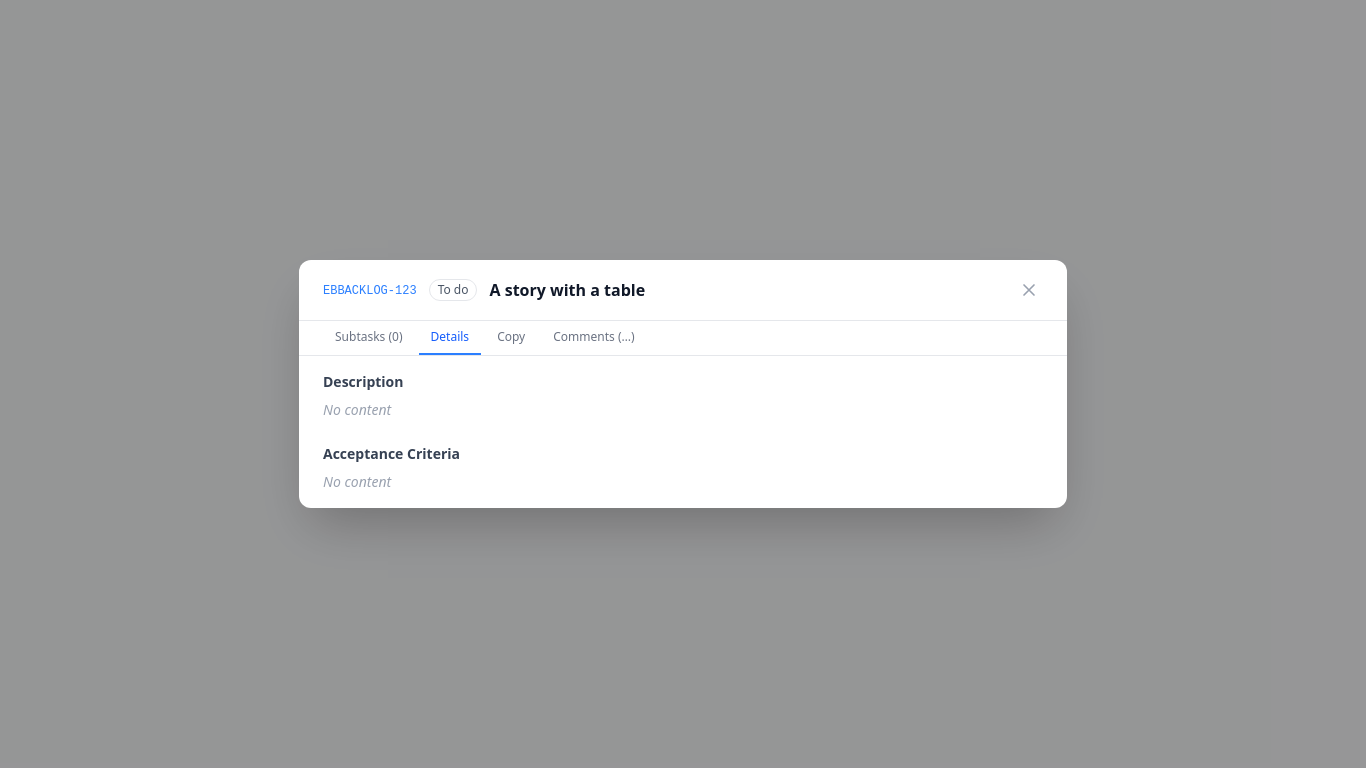
StoryDetailModal Copy tab › is present for an eligible issue and shows the Copy & Translations badge
expect the heading "A story with a table" is shown: met, box [490,279,645,301]
Click the button "Copy" at (511, 338), box [485,321,537,355]
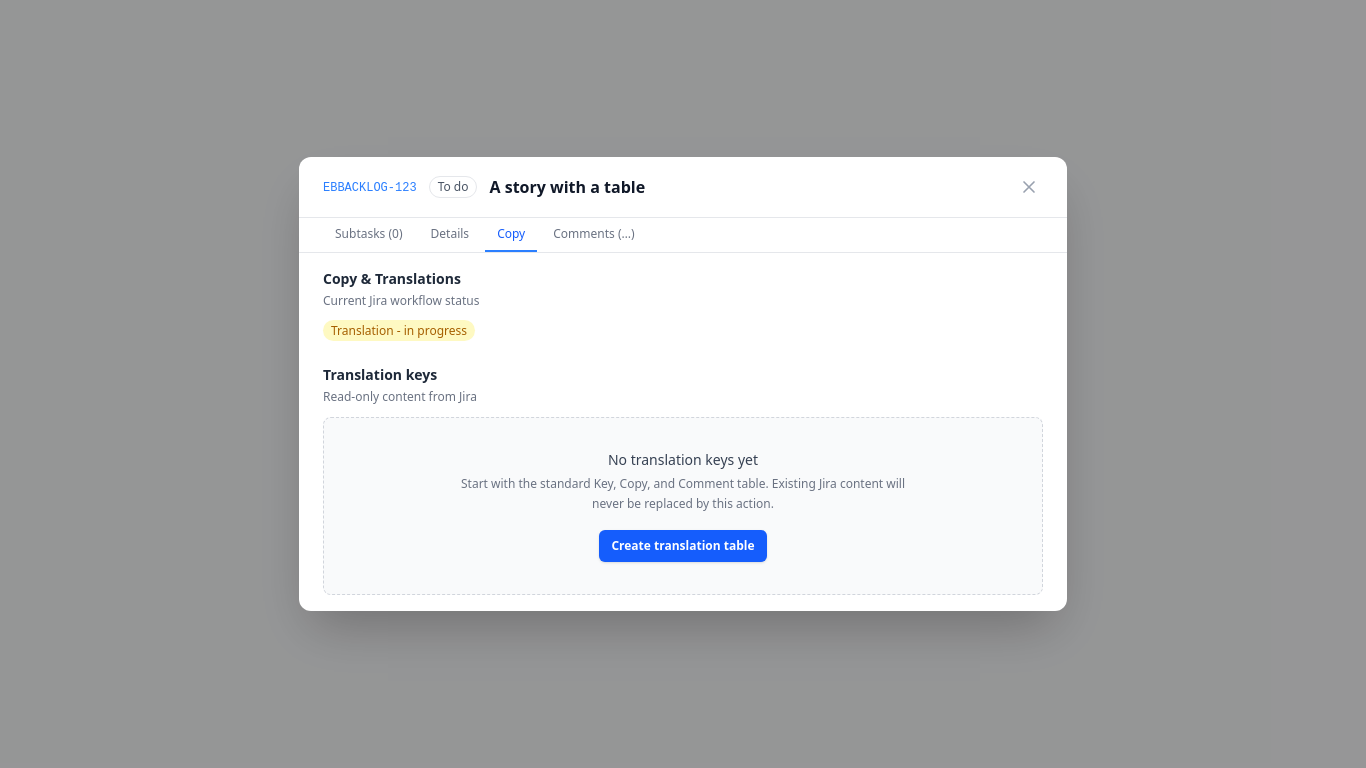
expect the heading "Copy & Translations" is shown: met, box [323,269,461,288]
expect the text "Current Jira workflow status" is shown: met, box [323,292,479,309]
